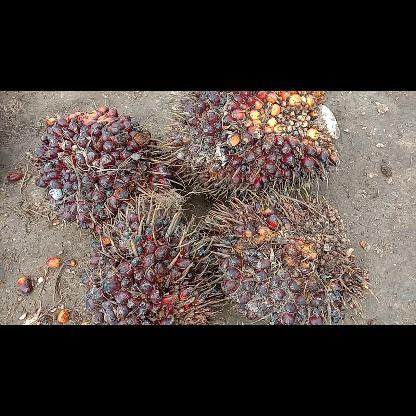TBS masak: (201, 188, 371, 324), (160, 91, 342, 199), (81, 192, 221, 324), (29, 105, 173, 233)
